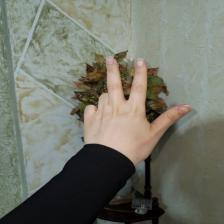three: (86, 57, 194, 158)
